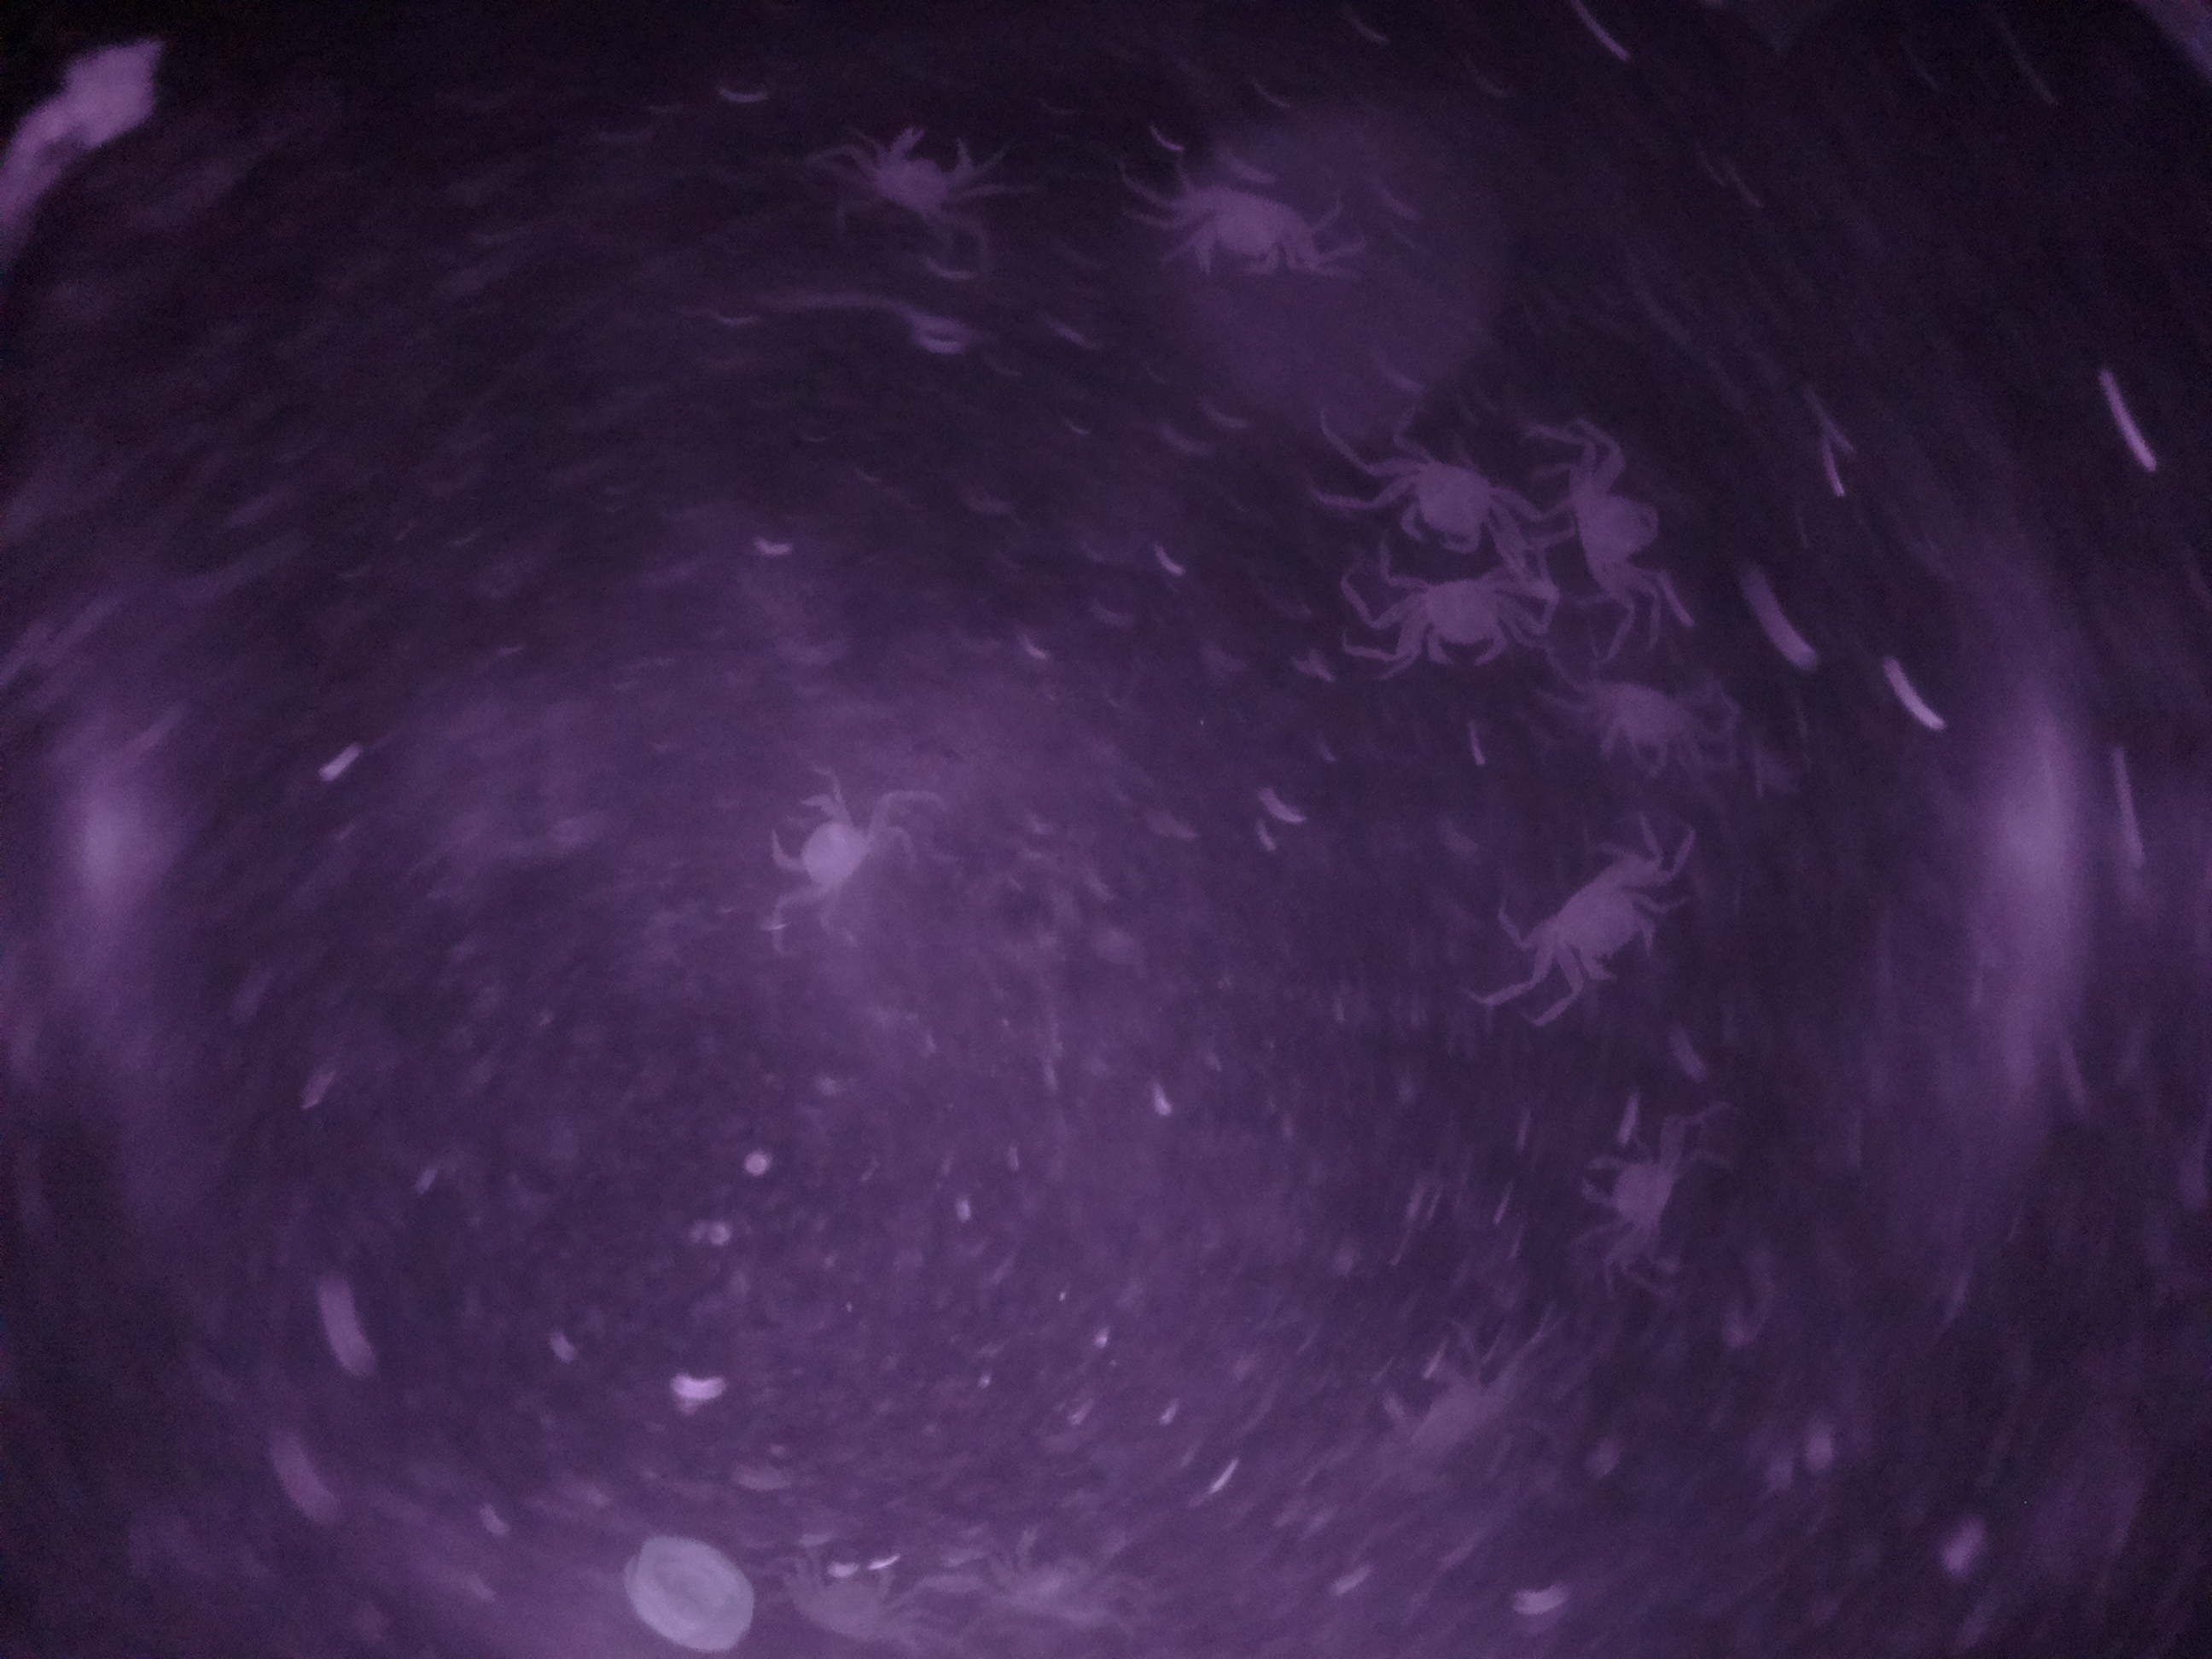Crab: (1480, 829, 1700, 1033), (1324, 439, 1554, 554), (1350, 558, 1554, 685)
